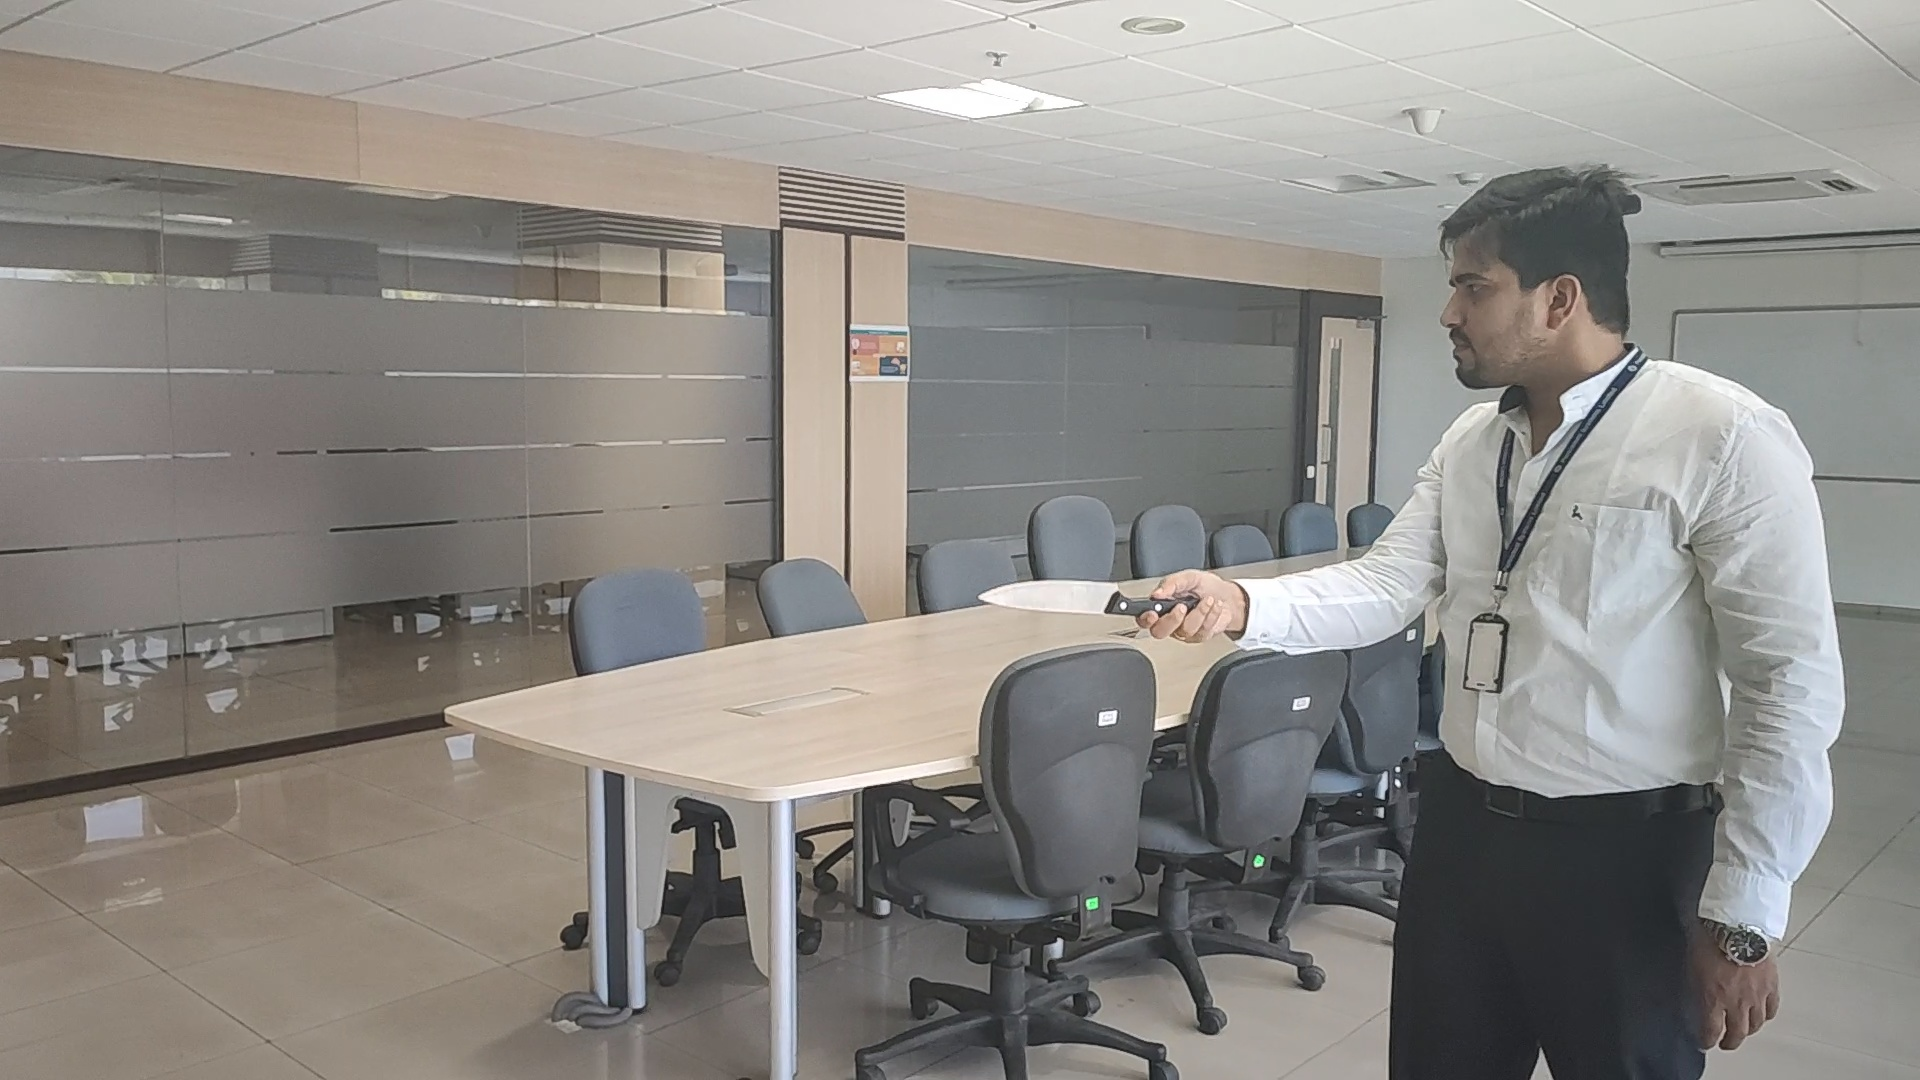knife: (976, 578, 1164, 617)
